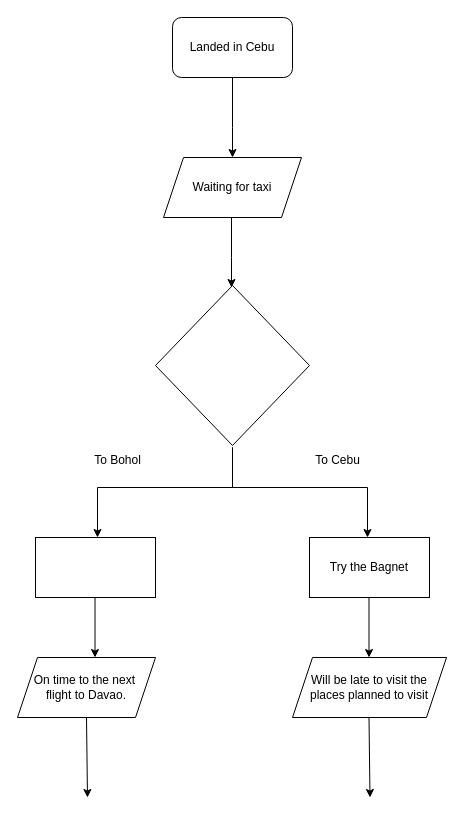
Some shapes in this 464 by 823 pixel diagram are drawn without their labels. The shapes that lost their labels are listed below. From the top down, each one's centre as x and y in pixels, then its label:
[232,365]: Go to the earliest ferry ride to Bohol or explore Cebu.
[95,567]: See the Chocolate Hills
